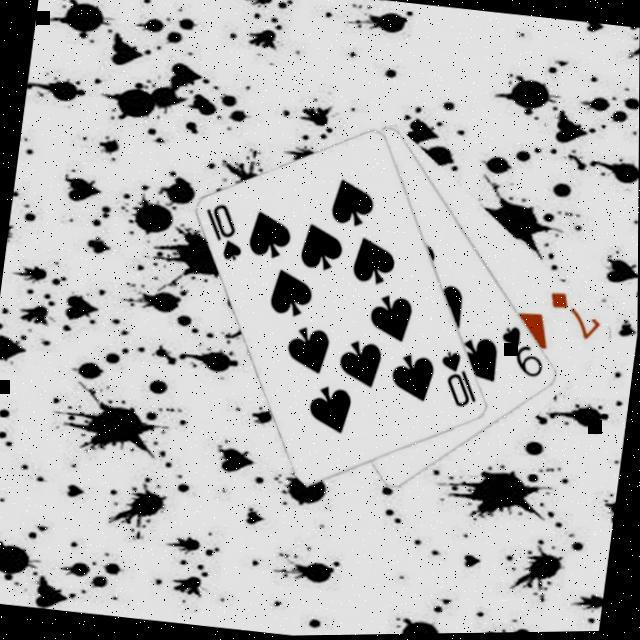10S: (195, 200, 248, 267), (432, 349, 483, 416)
7D: (539, 289, 603, 348)
9S: (492, 323, 549, 386)
